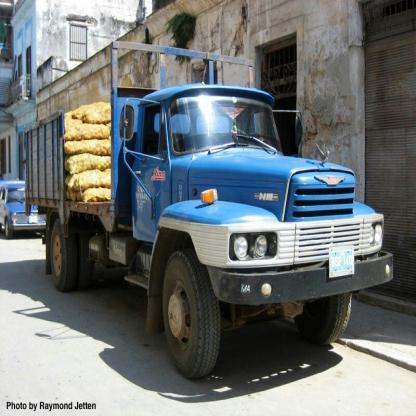dump_truck: (11, 31, 398, 392)
